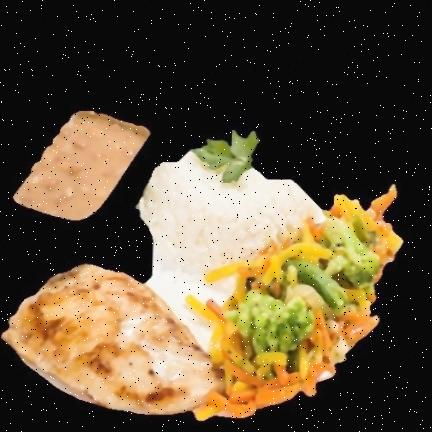beans: (15, 113, 149, 219)
broccoli: (278, 219, 378, 315), (196, 356, 335, 419), (227, 270, 324, 352), (342, 312, 378, 339)
carrot: (228, 364, 334, 414), (198, 393, 224, 417), (225, 362, 248, 383)
chicken: (3, 265, 224, 414)
rice: (139, 152, 323, 325)
